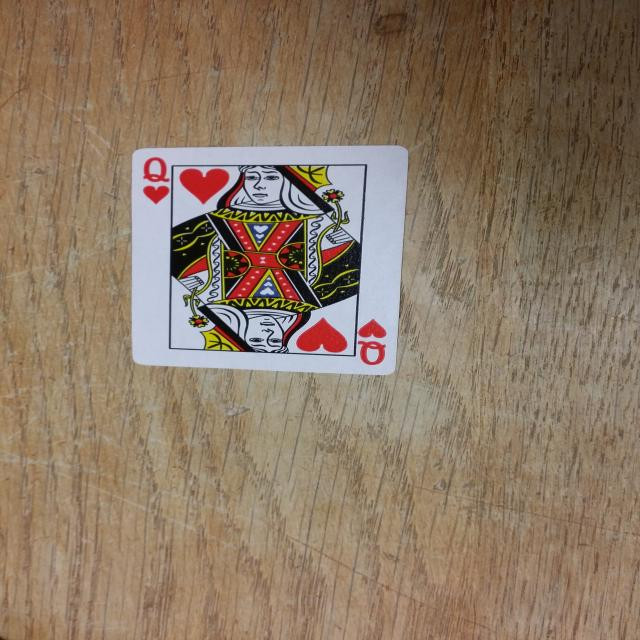Qh: (131, 152, 178, 212), (350, 318, 397, 370)
